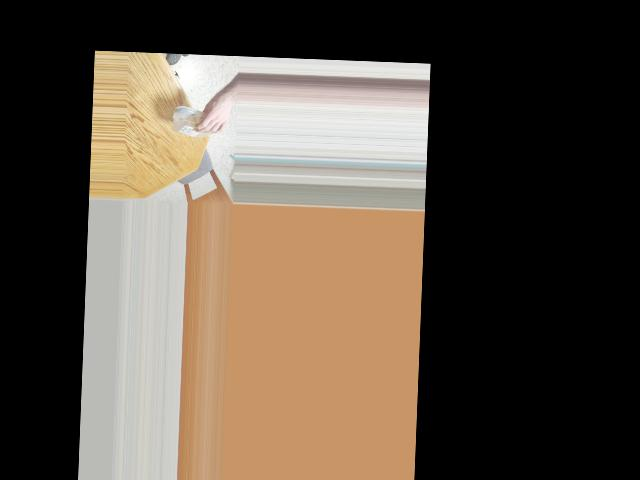cheese: (180, 101, 225, 140)
